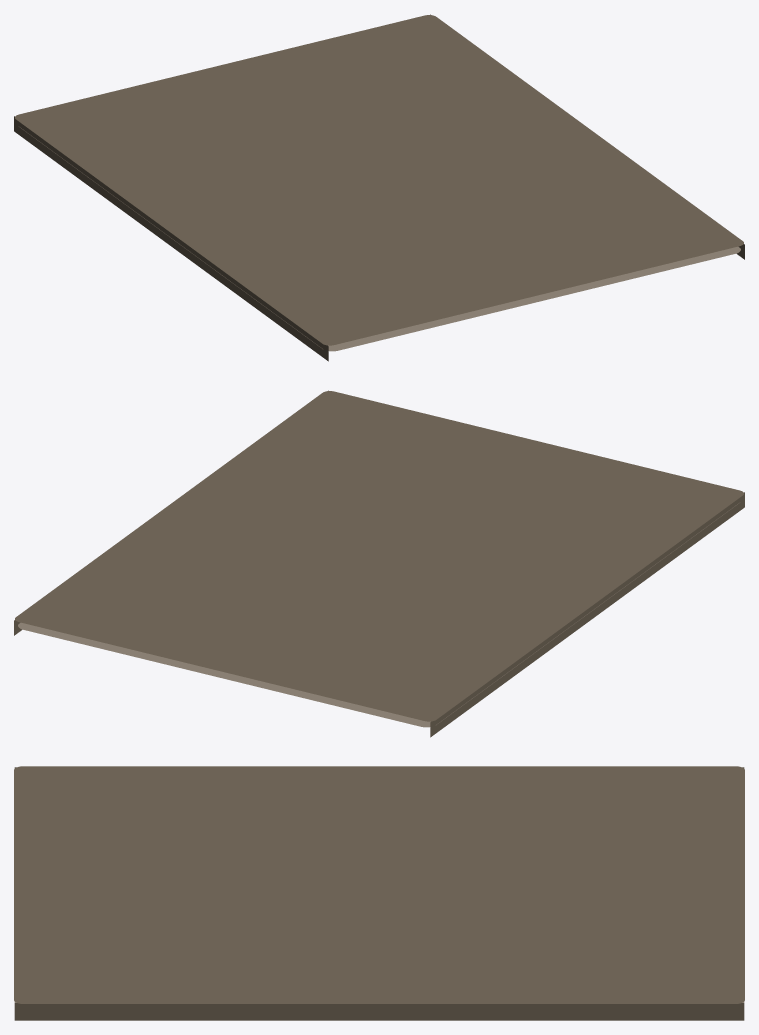
The model's file is ceiling-uv-fixed.glb.
3 views of the same model, one above another, from view 1: azimuth 30°, elevation 25°; view 2: azimuth 150°, elevation 25°; view 3: azimuth 270°, elevation 25° (orthographic). The views are drawn at different scales.
Visible parts, largest first — view 1: THEATRE | Ceiling PBR; view 2: THEATRE | Ceiling PBR; view 3: THEATRE | Ceiling PBR.
Boxes of the visible parts, bbox=[...] form: THEATRE | Ceiling PBR: bbox=[14, 14, 744, 361]; THEATRE | Ceiling PBR: bbox=[14, 390, 744, 737]; THEATRE | Ceiling PBR: bbox=[14, 766, 744, 1020].
Bounding box in the file's own units: 16.6 × 0.66 × 21.55.
